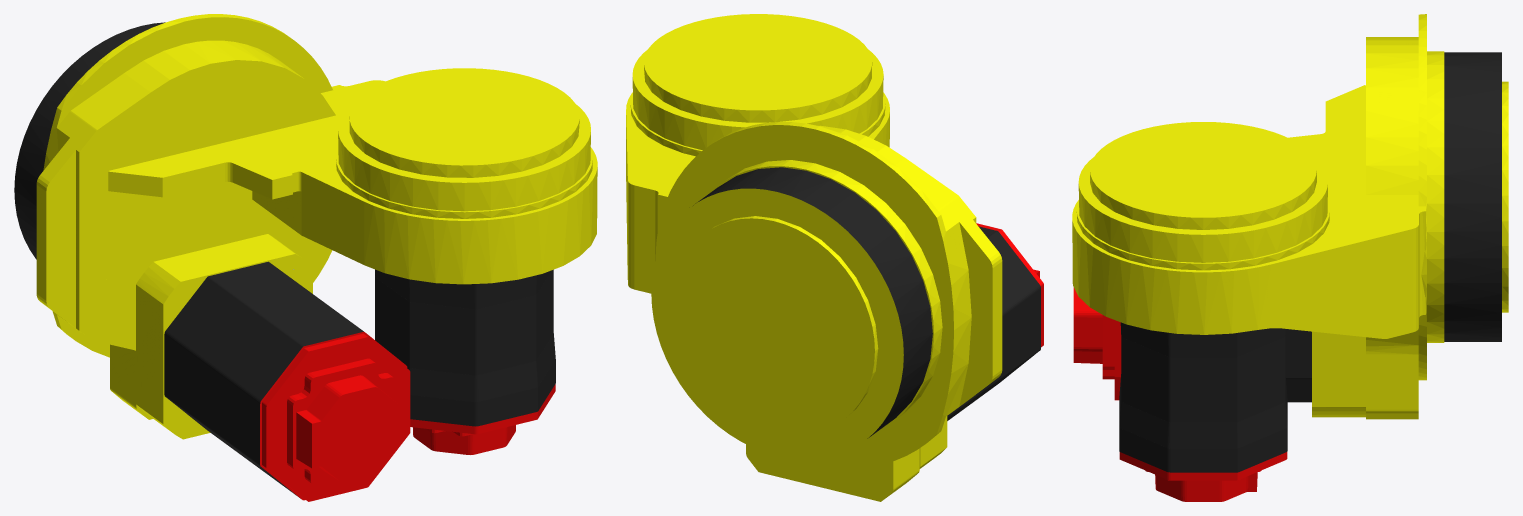
3 renders of one model, left to right at view 1: azimuth 30°, elevation 25°; view 2: azimuth 150°, elevation 25°; view 3: azimuth 270°, elevation 25°, orthographic.
Parts seen in each view (by area): view 1: node; view 2: node; view 3: node.
Boxes of the visible parts, x1=… form: node: x1=14, y1=14, x2=597, y2=501; node: x1=626, y1=14, x2=1043, y2=501; node: x1=1072, y1=14, x2=1508, y2=501.
Bounding box in the file's own units: 392 × 313 × 336.
